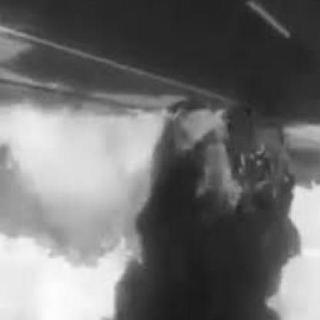Smoke: (104, 187, 290, 319)
